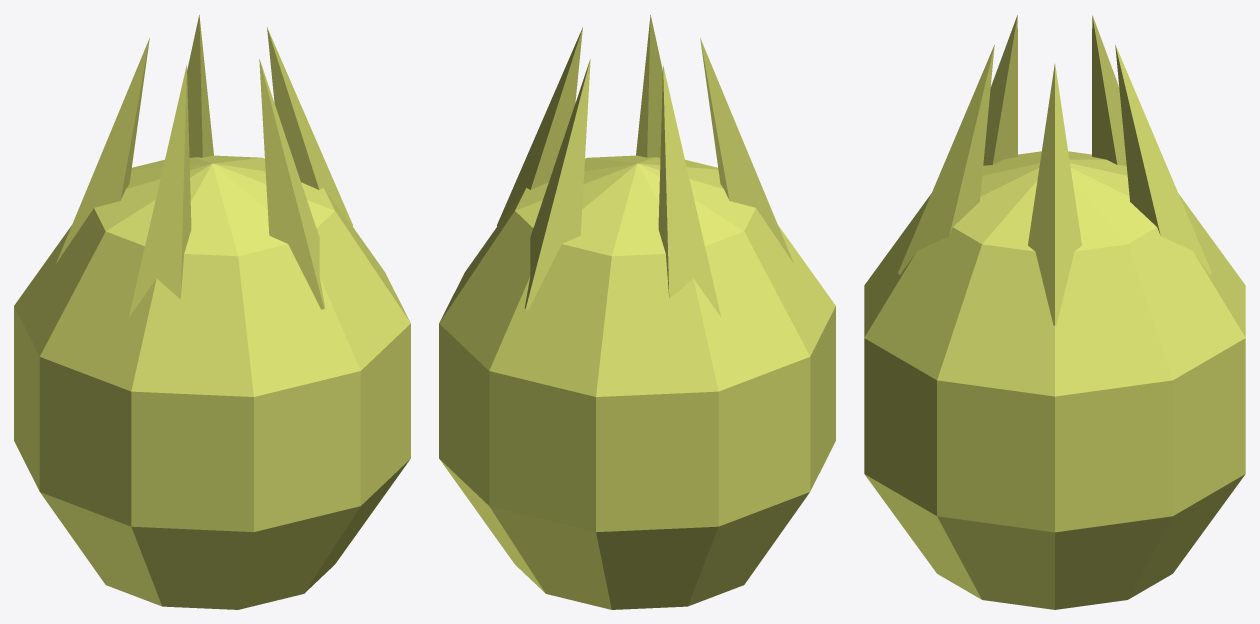
The model's file is irrlicht.glb.
3 renders of one model, left to right at view 1: azimuth 30°, elevation 25°; view 2: azimuth 150°, elevation 25°; view 3: azimuth 270°, elevation 25°, orthographic.
Size of the model in its own units: 0.4185 by 0.649 by 0.398.
1 material, 1 textured.
